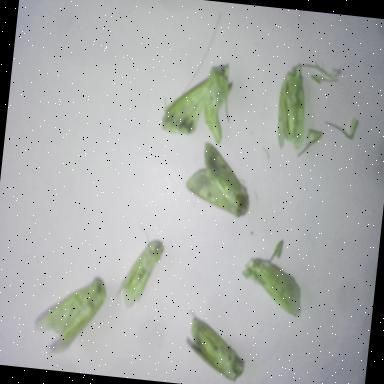abw: (25, 266, 112, 368), (158, 52, 238, 148), (236, 234, 310, 324), (180, 138, 258, 222), (177, 305, 253, 384), (110, 220, 170, 317), (268, 55, 317, 158)
